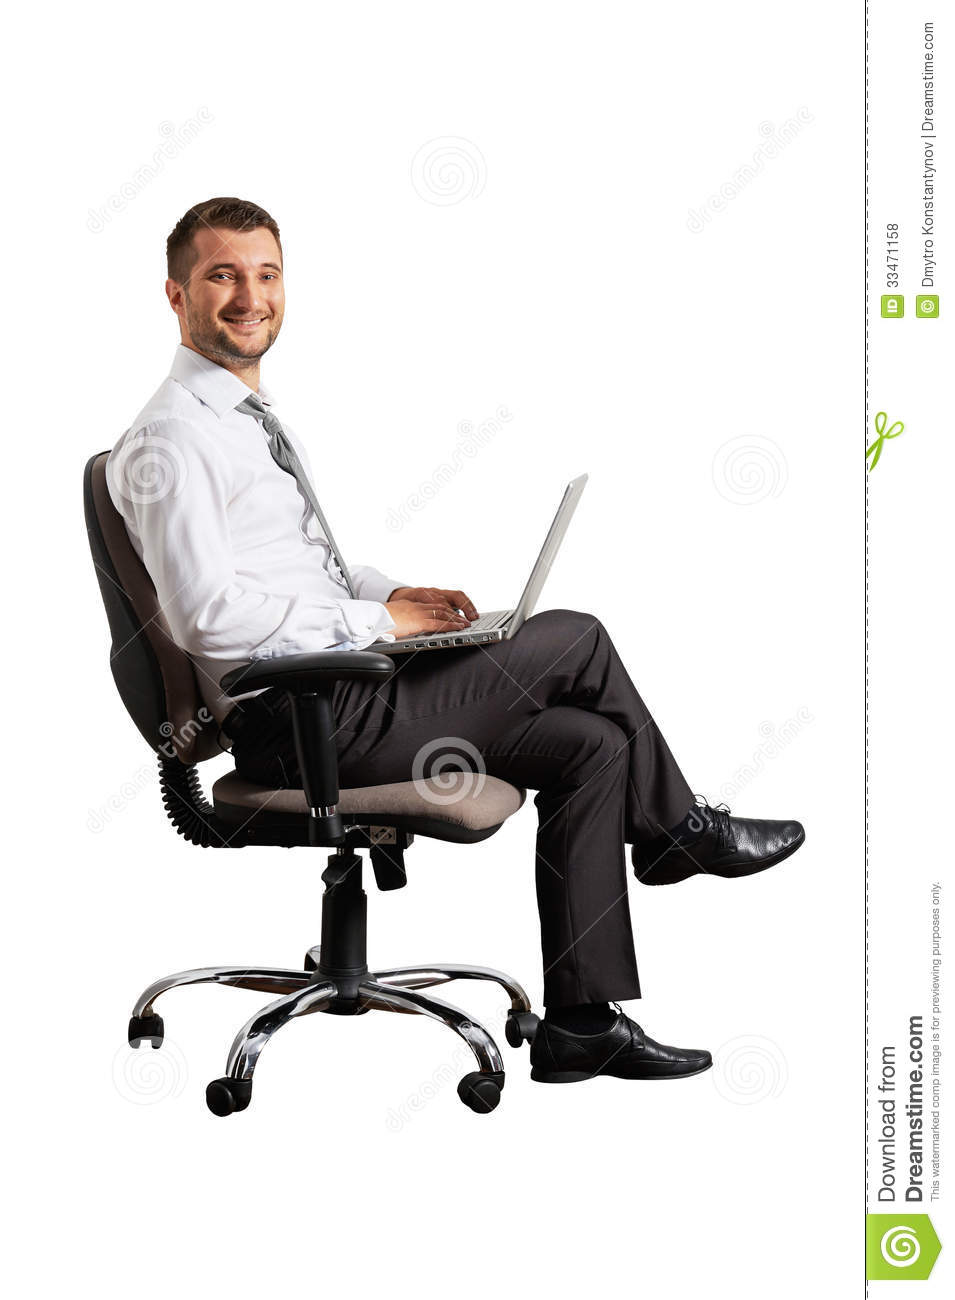chairs: (74, 442, 546, 1118)
